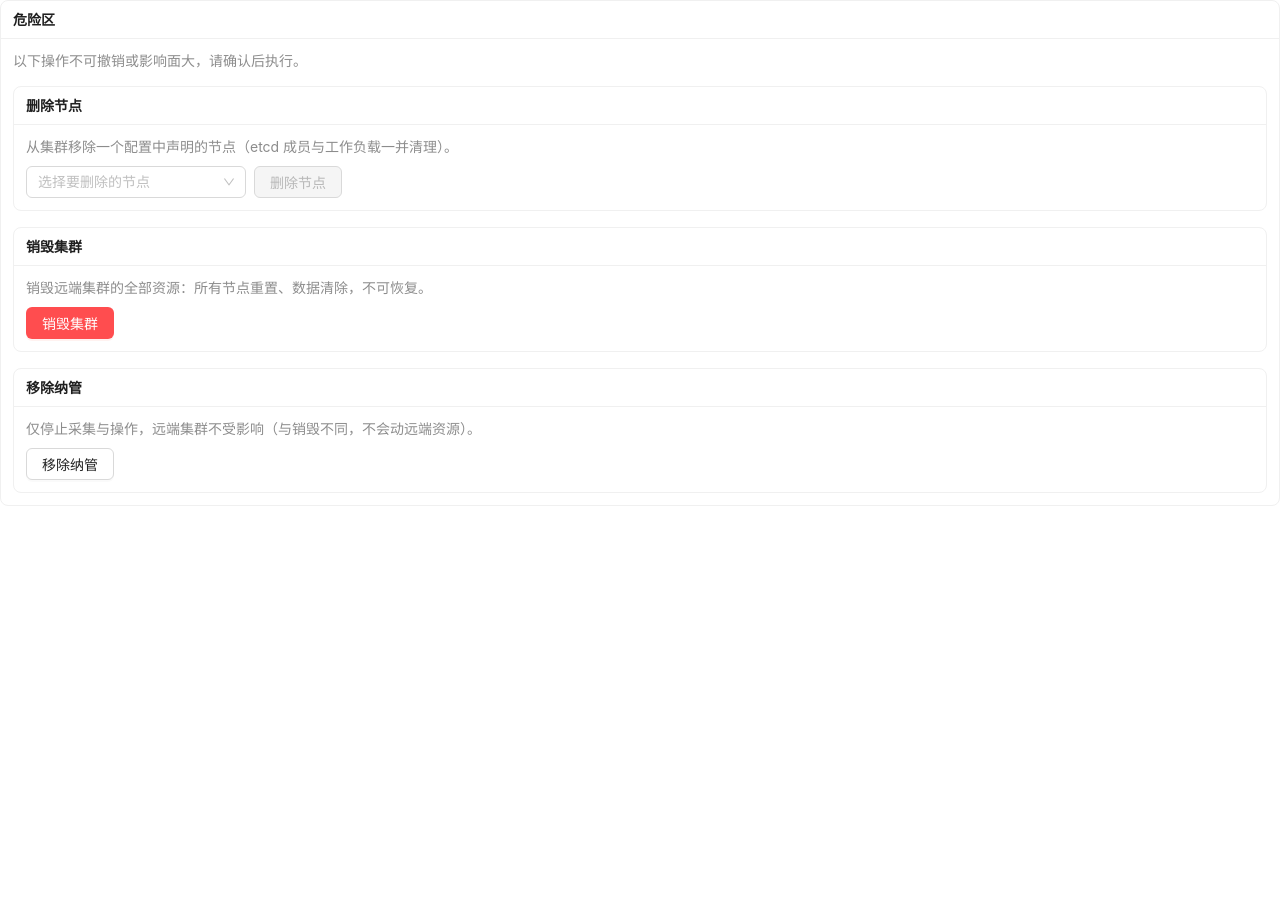
Test: 危险区（WP-64） › 失败时展示服务端错误信息（archive 409）
Click the button with test id "danger-archive-open" at [70, 464], box 26,448 -> 114,480
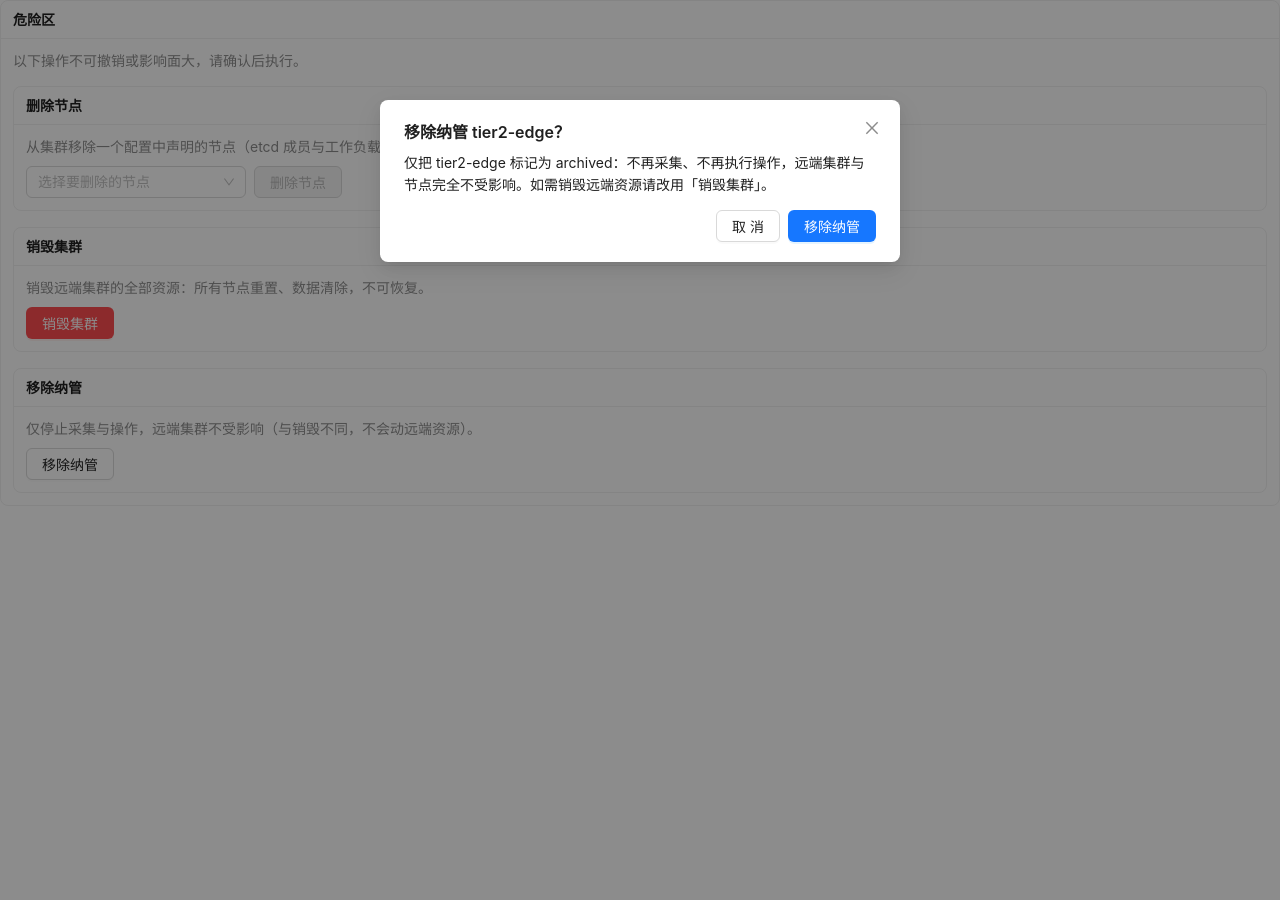
Click the button with test id "danger-archive-confirm" at [832, 226], box 788,210 -> 876,242
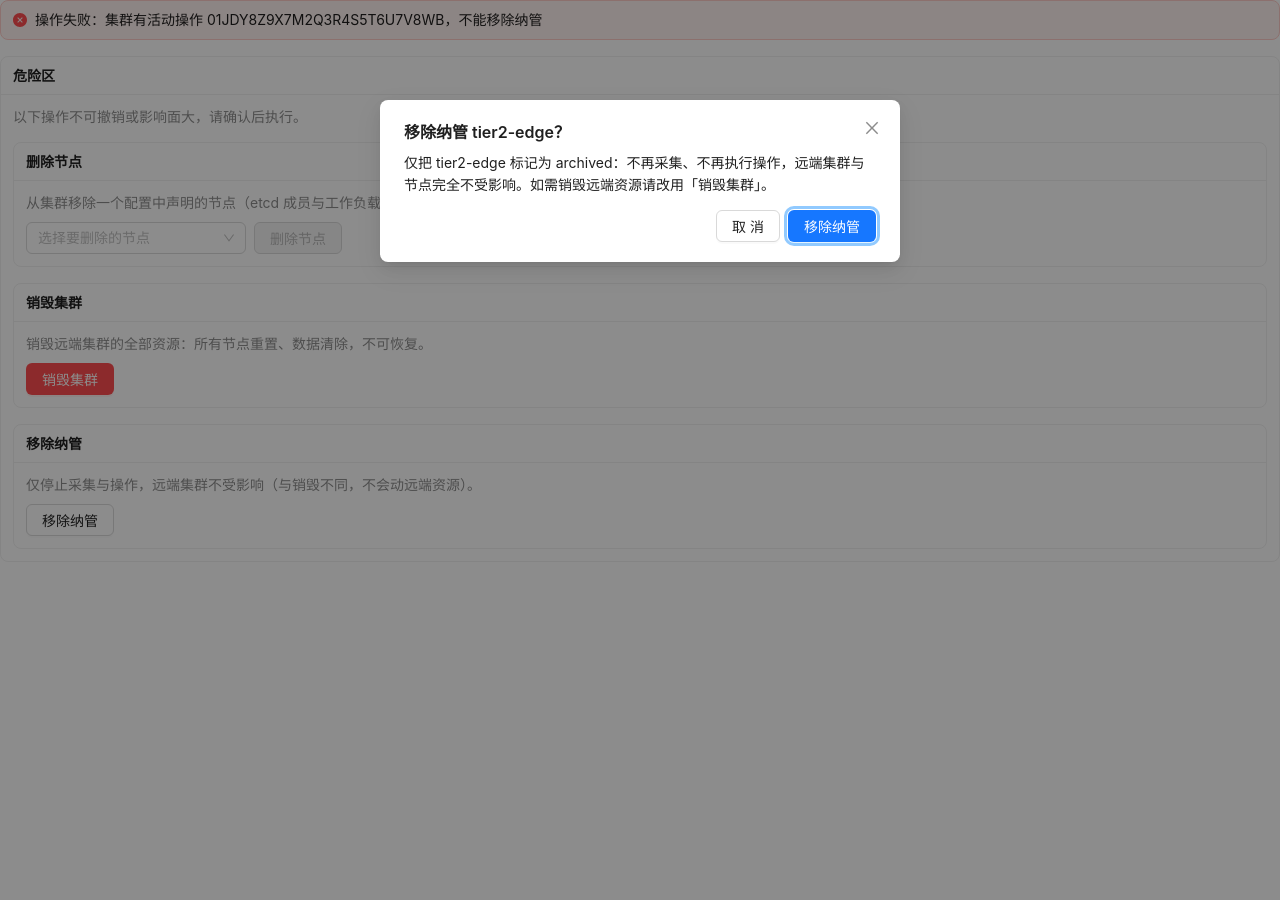
Expected: the message with test id "danger-error" shows "活动操作", 35,11 -> 542,28
